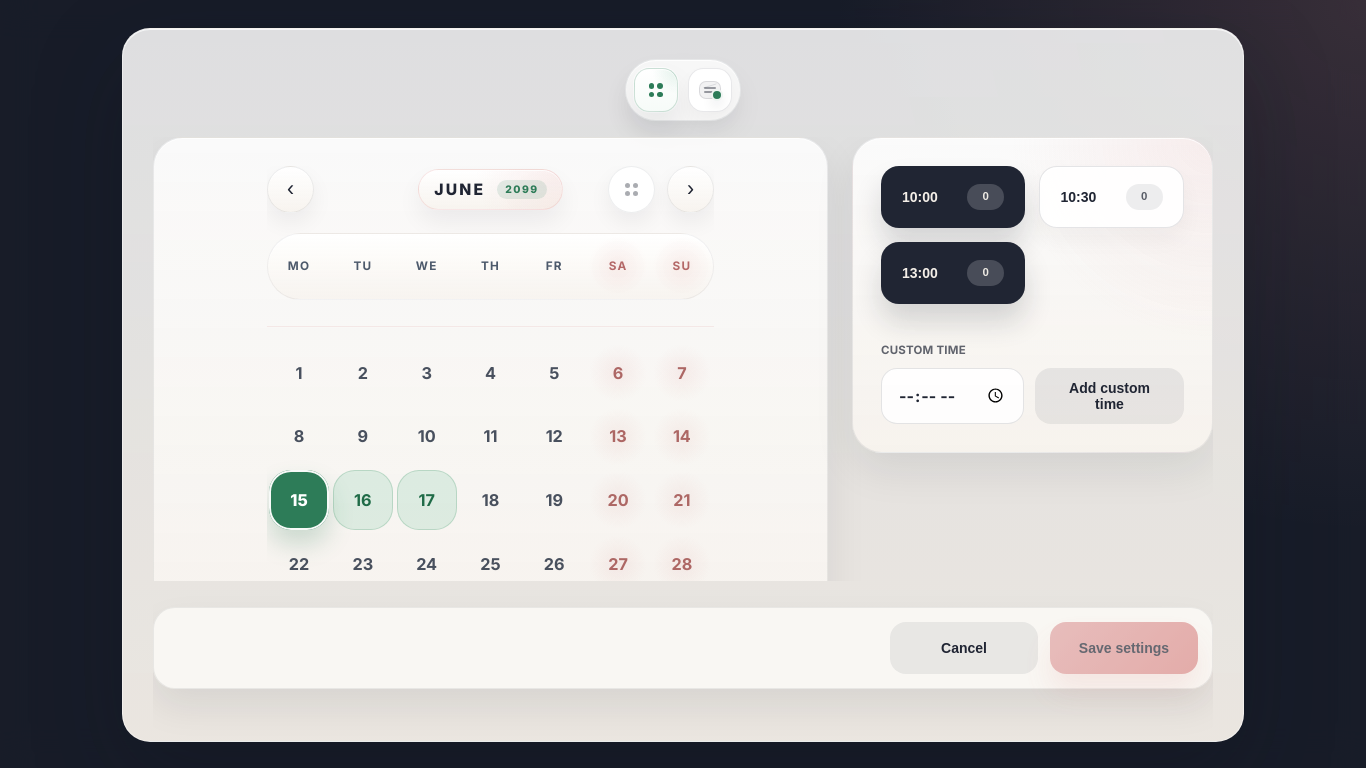
it: FreeTourScheduleEditorModal › shows a non-interactive select days hint when bulk mode is enabled without selected dates
This screenshot has width=1366, height=768.
Click the button named "toggle multi-day selection": (632, 190) [608,166,655,213]
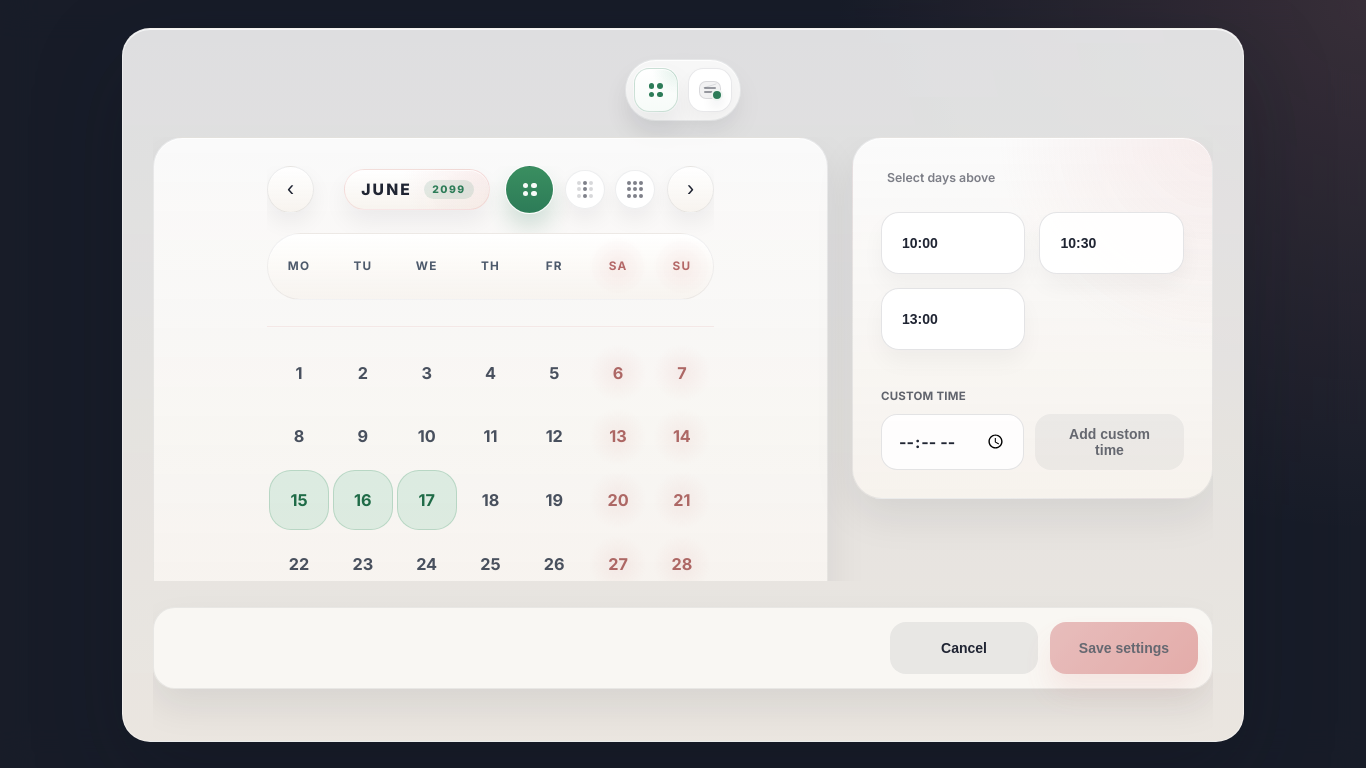
Expected: the text "Select days above" is shown, [887,170,995,185]
